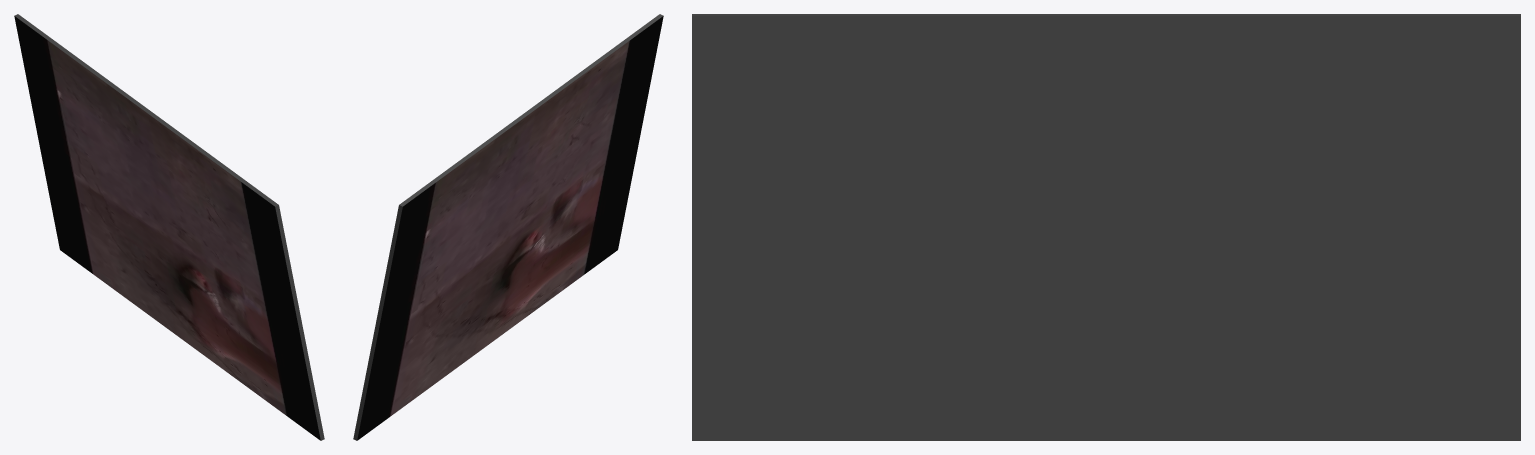
File: screentest.glb
3 renders of one model, left to right at view 1: azimuth 30°, elevation 25°; view 2: azimuth 150°, elevation 25°; view 3: azimuth 270°, elevation 25°, orthographic. The views are drawn at different scales.
Visible parts, largest first — view 1: Cube; view 2: Cube; view 3: Cube.
Boxes of the visible parts, x1=… form: Cube: x1=14, y1=14, x2=324, y2=440; Cube: x1=353, y1=14, x2=663, y2=440; Cube: x1=692, y1=14, x2=1520, y2=440.
Bounding box in the file's own units: 1.63 × 7.71 × 14.8.
Materials: 2 (1 with a texture image).
